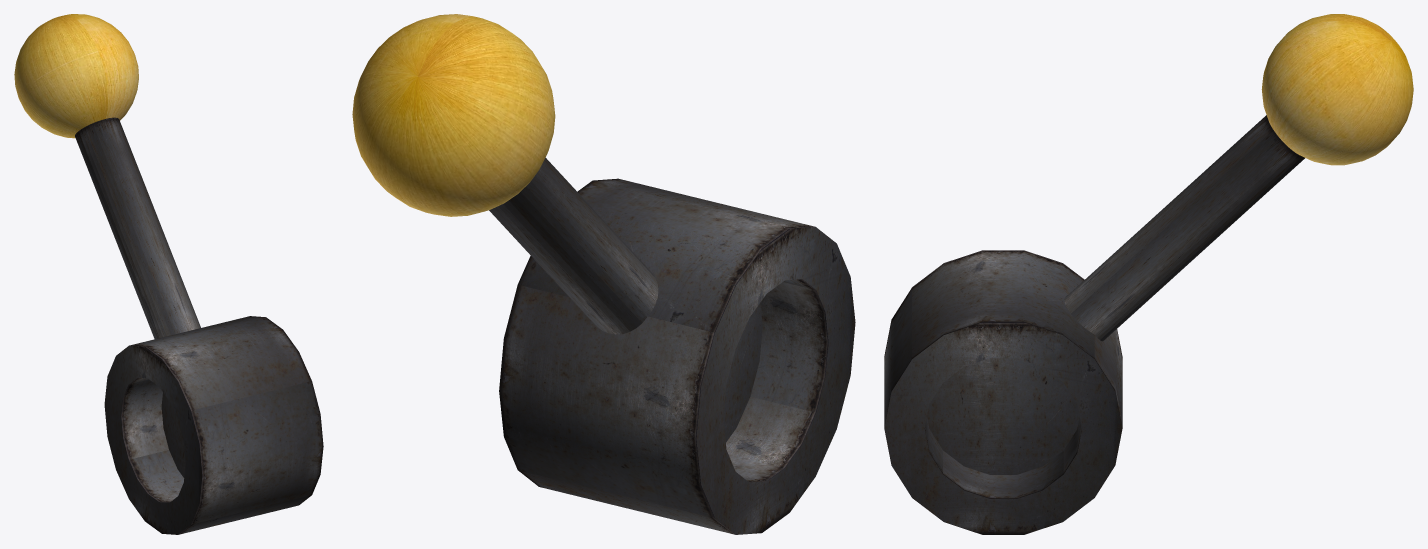
The model's file is handle.FBX.
3 renders of one model, left to right at view 1: azimuth 30°, elevation 25°; view 2: azimuth 150°, elevation 25°; view 3: azimuth 270°, elevation 25°, orthographic. The views are drawn at different scales.
Visible parts, largest first — view 1: Cylinder001, Sphere001; view 2: Cylinder001, Sphere001; view 3: Cylinder001, Sphere001.
Boxes of the visible parts, x1,y1,x2,y2 form: Cylinder001: [104, 316, 323, 534]; Sphere001: [14, 14, 200, 338]; Cylinder001: [499, 178, 855, 534]; Sphere001: [352, 14, 658, 334]; Cylinder001: [884, 250, 1122, 534]; Sphere001: [1064, 14, 1413, 341].
Size of the model in its own units: 4.27 by 13.2 by 13.25.
2 materials, 2 textured.
